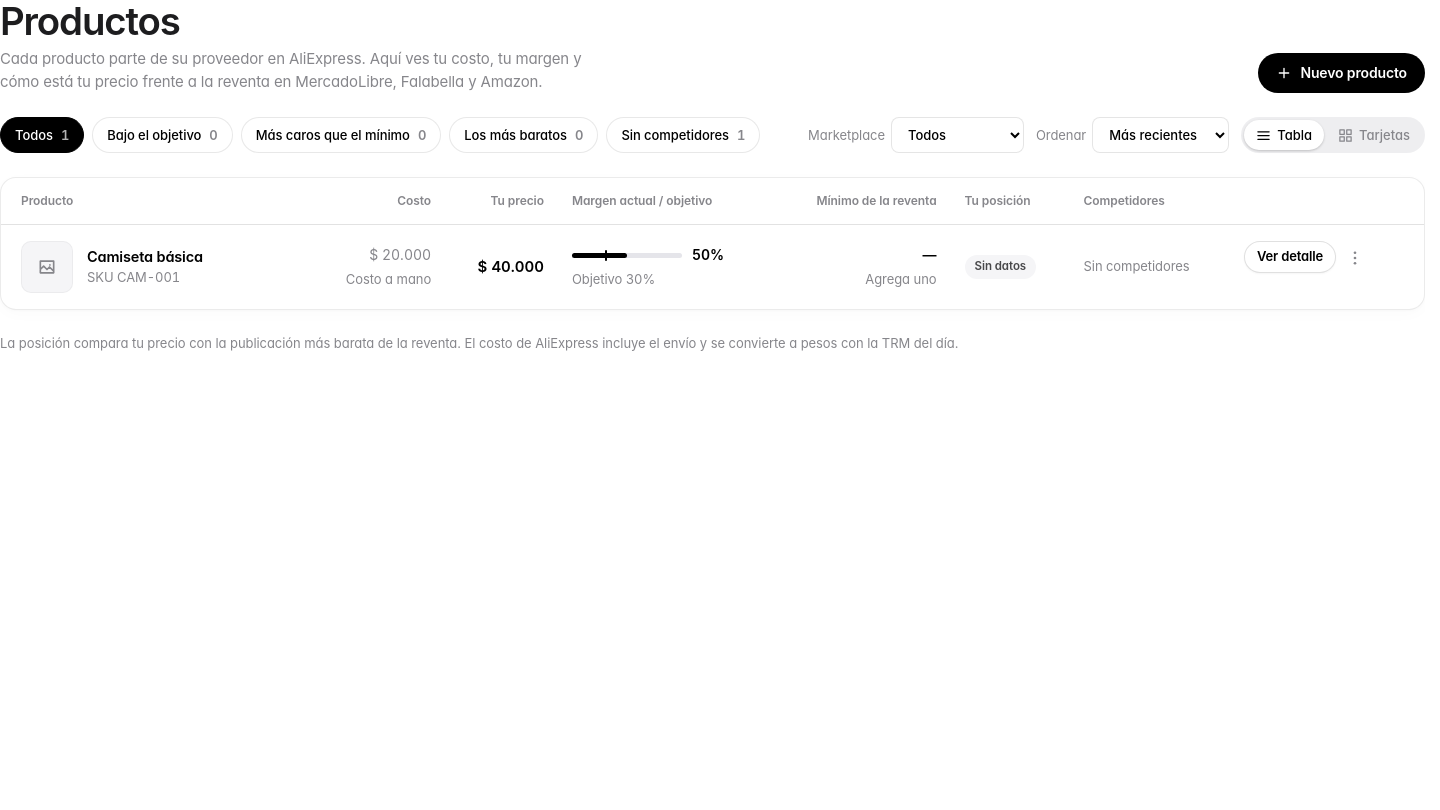
Test: productos › edita un producto con el mismo formulario
Click the button named "Más acciones para Camiseta básica" at (1355, 258), box [1338,241,1372,275]
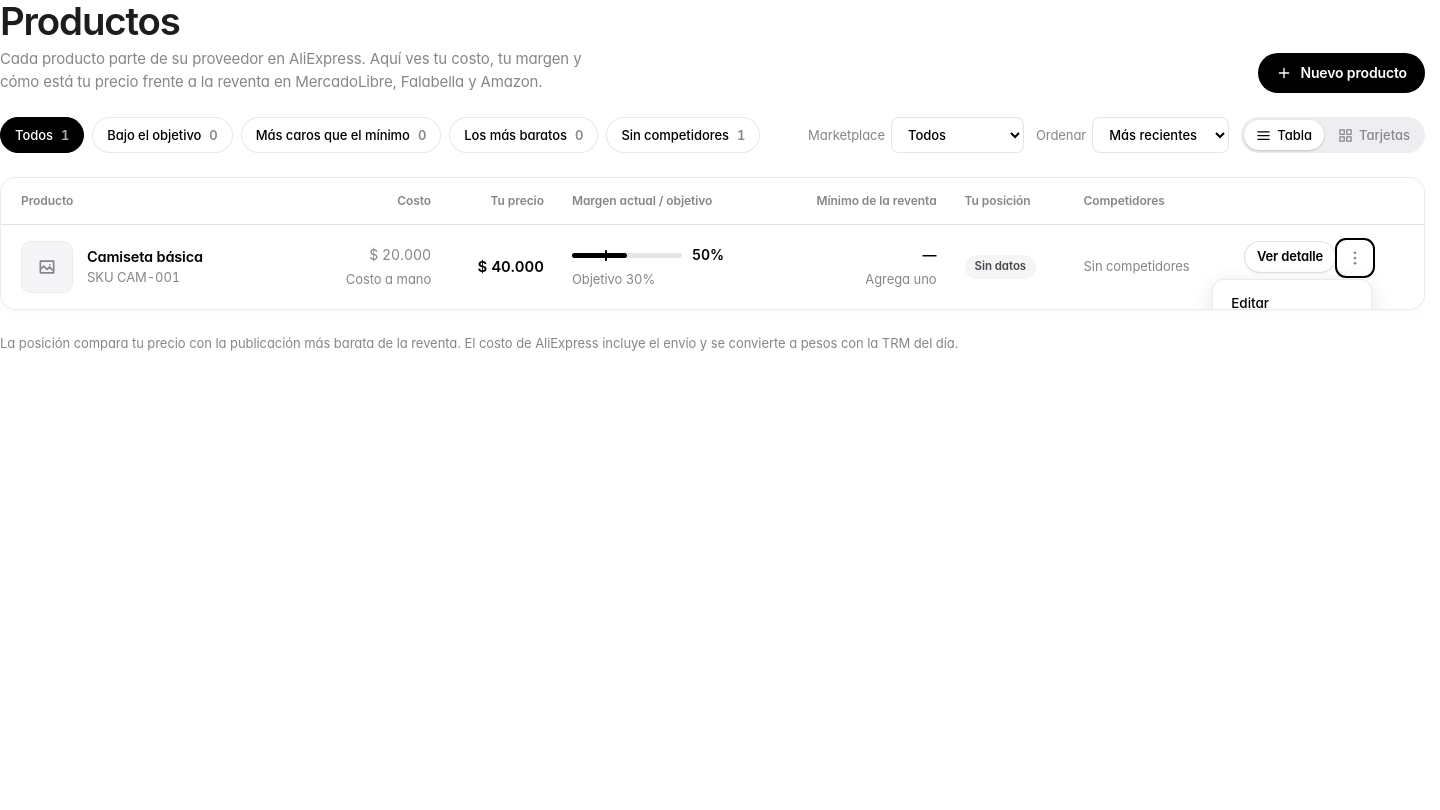
Click the button "Editar" at (1292, 304), box [1219,286,1365,322]
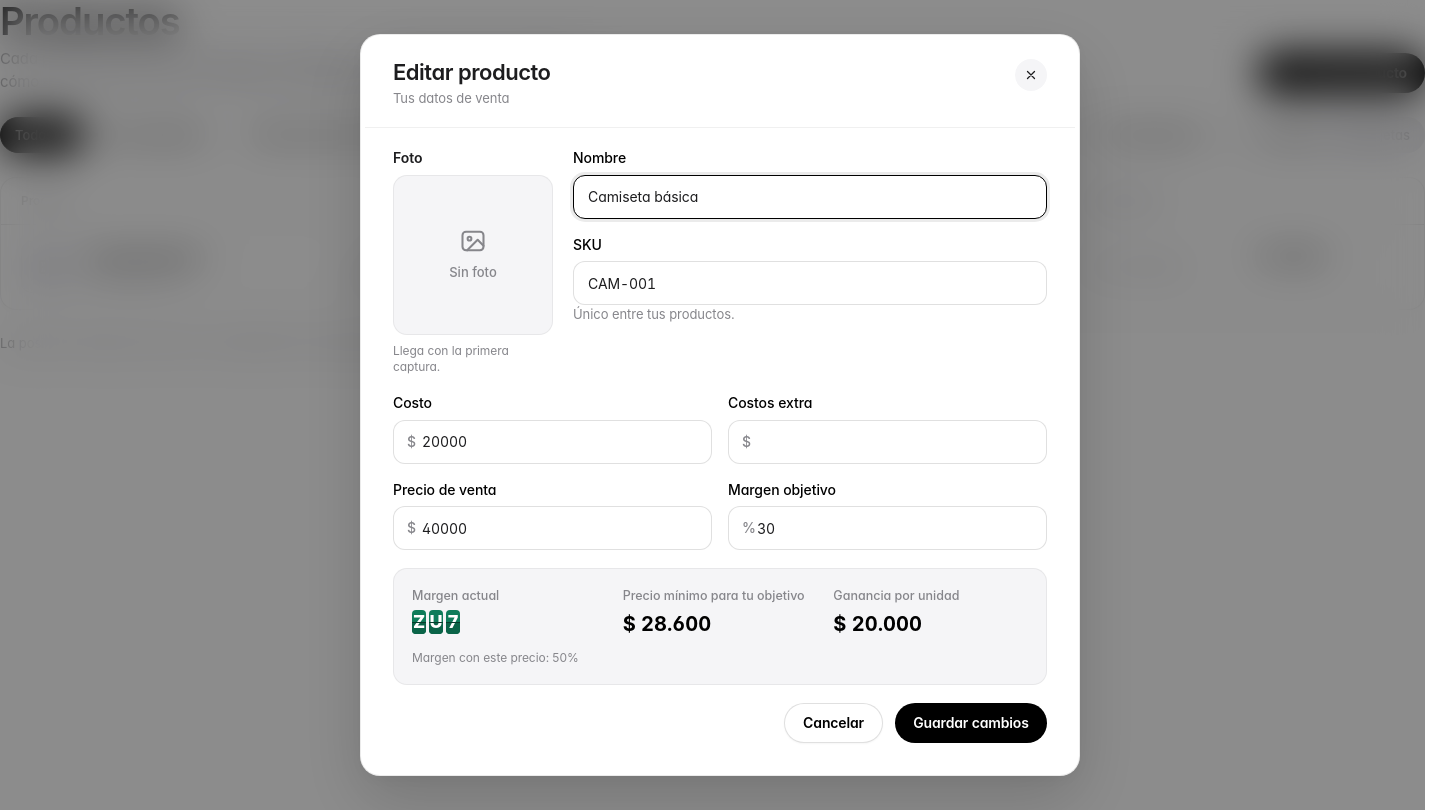
Check: the field labelled "SKU" holds "CAM-001", box [573,262,1047,306]
Clear the number field labelled "Precio de venta" at (552, 528), box [393,506,712,550]
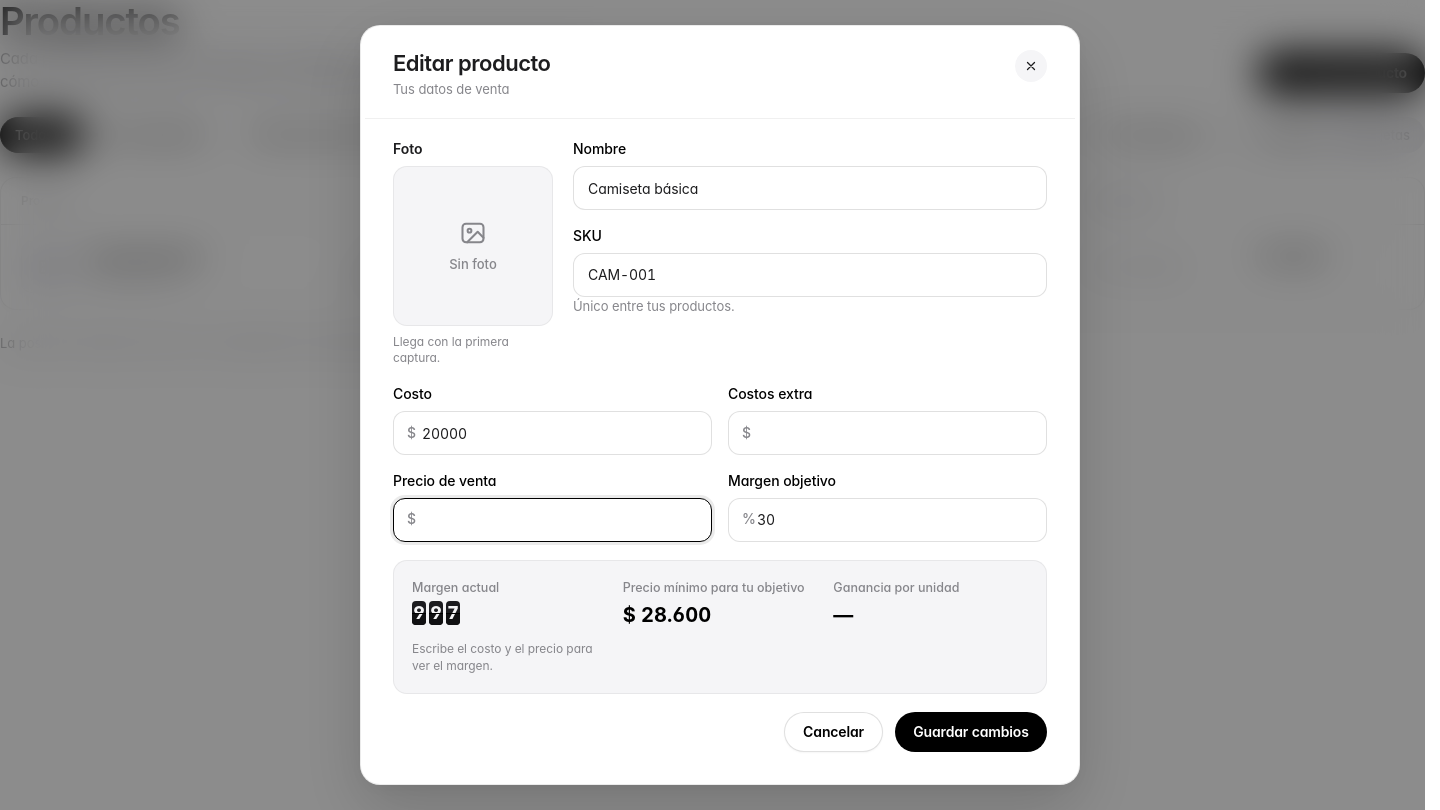
Type "50000" into the number field labelled "Precio de venta" at (552, 520), box [393,498,712,542]
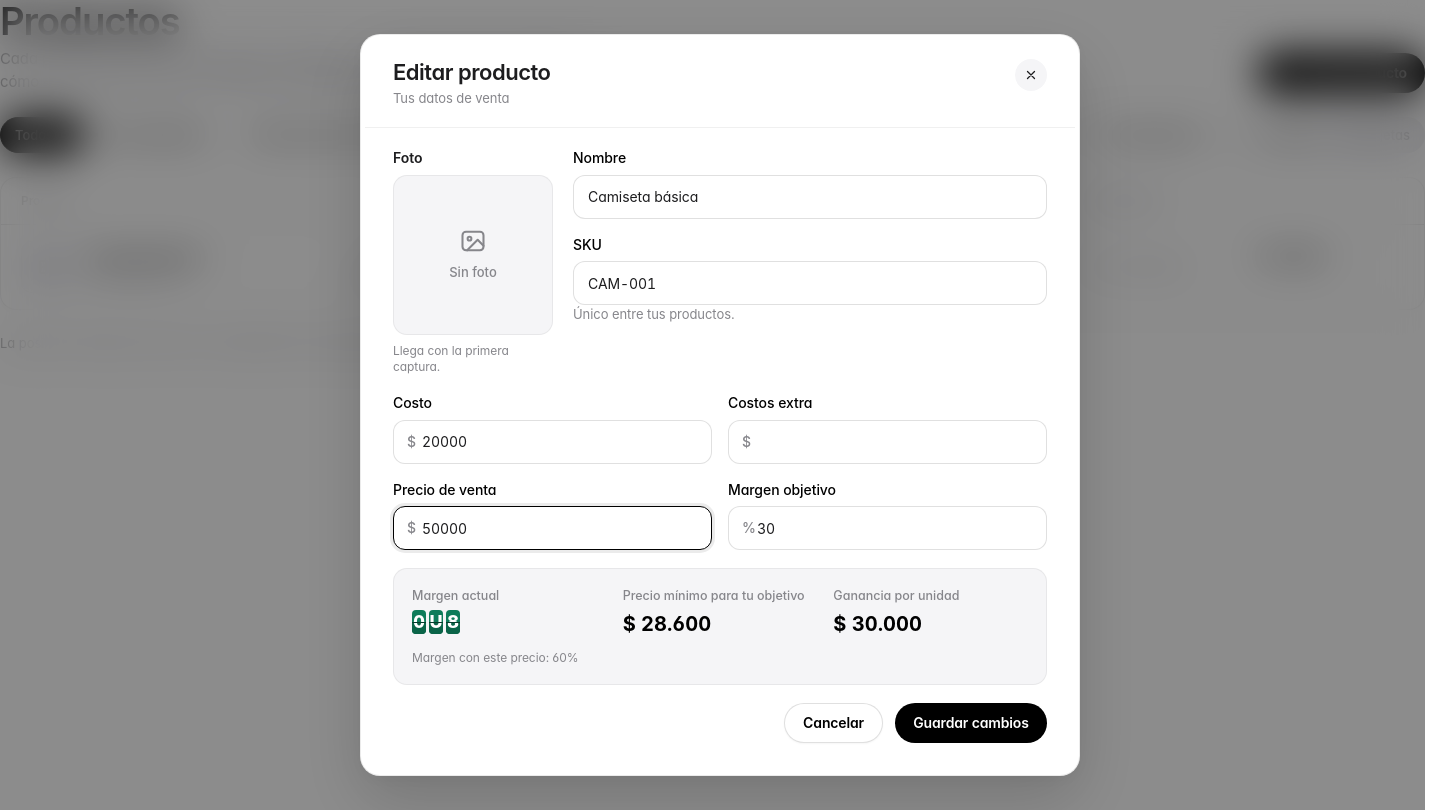
Click the button "Guardar cambios" at (971, 723), box [895,703,1047,743]
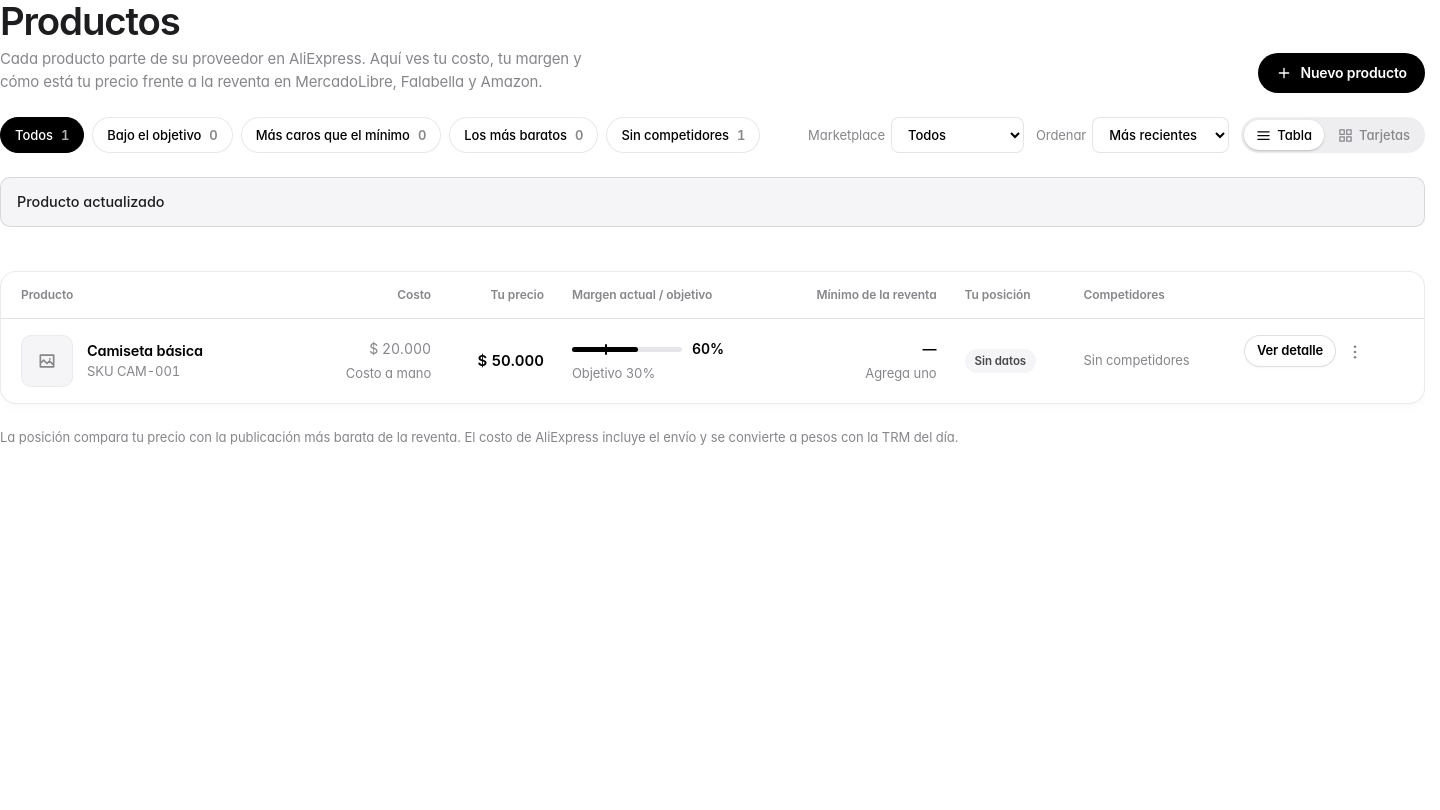
Check: the text "Producto actualizado" is shown, box [0,177,1425,227]
Check: the text "$ 50.000" is shown, box [445,319,558,403]
Check: the text "60%" is shown, box [692,339,724,360]
